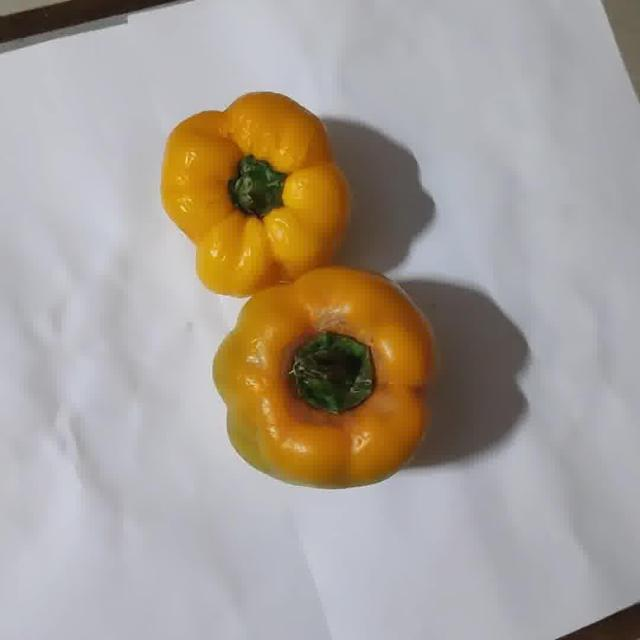Bell Pepper: (214, 267, 433, 488), (161, 92, 349, 297)
